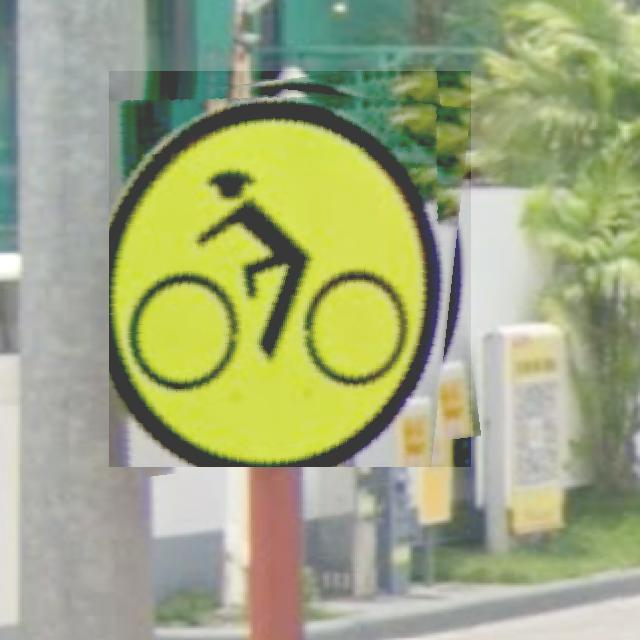bike lane: (109, 71, 471, 467)
